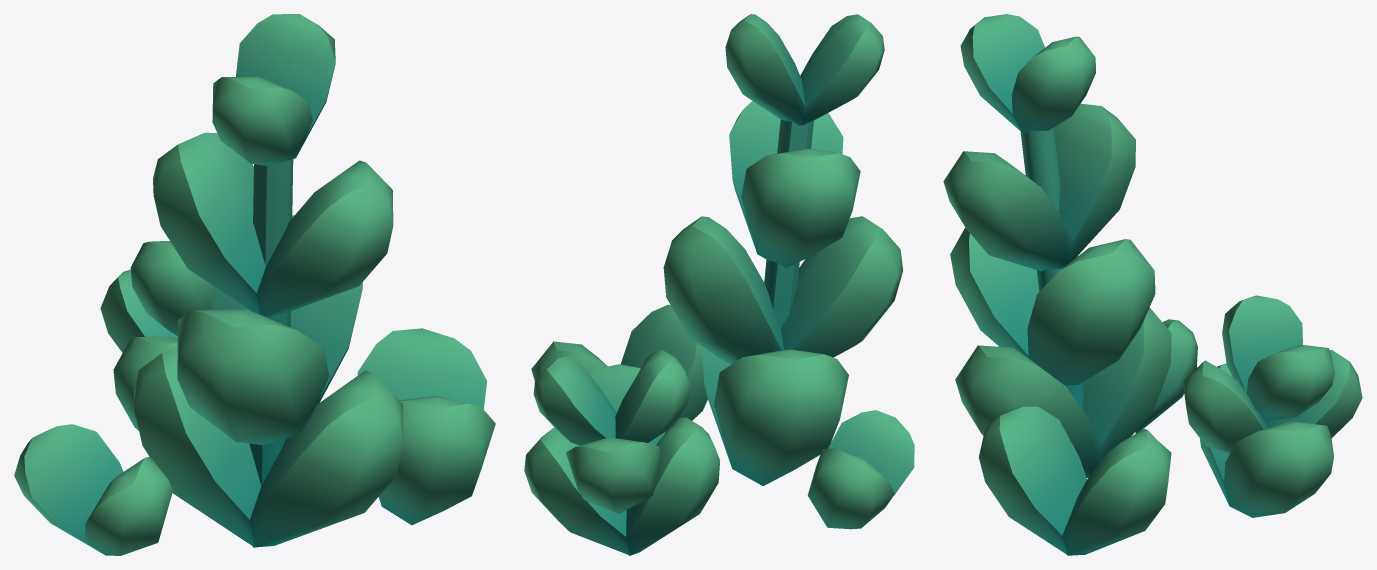
The picture shows the model from 3 angles, left to right: view 1: azimuth 30°, elevation 25°; view 2: azimuth 150°, elevation 25°; view 3: azimuth 270°, elevation 25°; orthographic projection. The views are drawn at different scales.
Visible parts, largest first — view 1: LOD 0_13142735058292916171_864aa3741cb91814880953315ea2c192; view 2: LOD 0_13142735058292916171_864aa3741cb91814880953315ea2c192; view 3: LOD 0_13142735058292916171_864aa3741cb91814880953315ea2c192.
Part boxes in pixels (x1,y1,x2,y2): LOD 0_13142735058292916171_864aa3741cb91814880953315ea2c192: [14, 14, 495, 555]; LOD 0_13142735058292916171_864aa3741cb91814880953315ea2c192: [524, 14, 914, 555]; LOD 0_13142735058292916171_864aa3741cb91814880953315ea2c192: [943, 14, 1362, 555].
Size of the model in its own units: 0.6529 by 0.7995 by 0.6564.
